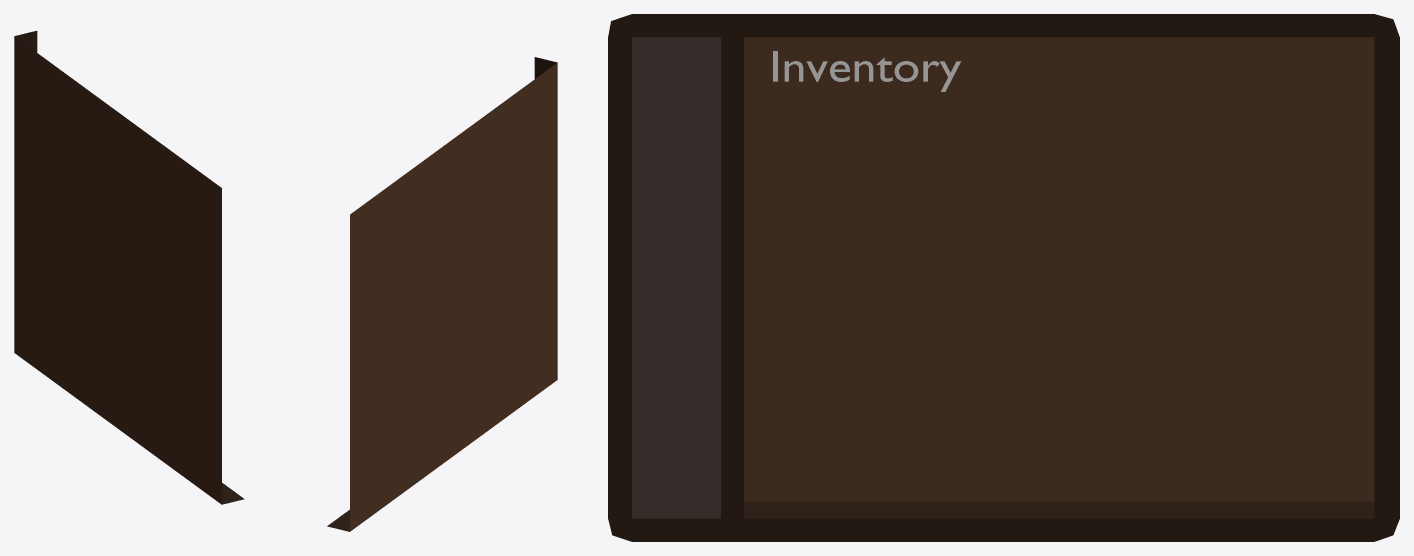
The model's file is SlotInventory2.fbx.
The picture shows the model from 3 angles, left to right: view 1: azimuth 30°, elevation 25°; view 2: azimuth 150°, elevation 25°; view 3: azimuth 270°, elevation 25°; orthographic projection. The views are drawn at different scales.
Parts seen in each view (by area): view 1: Plane; view 2: Plane; view 3: Plane, Text.
Part boxes in pixels (x1,y1,x2,y2): Plane: (14,30,244,504); Plane: (327,57,557,531); Plane: (608,14,1399,541); Text: (773,51,960,91).
Size of the model in its own units: 81.6 by 1180 by 1604.
